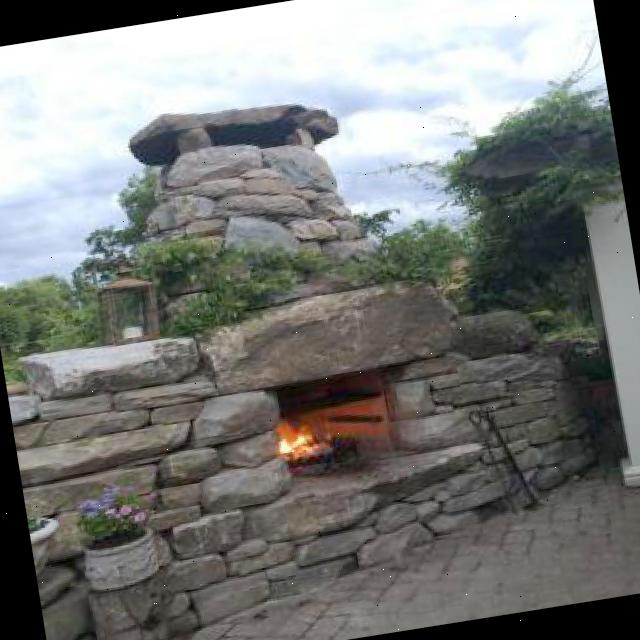fire: (260, 407, 328, 462)
